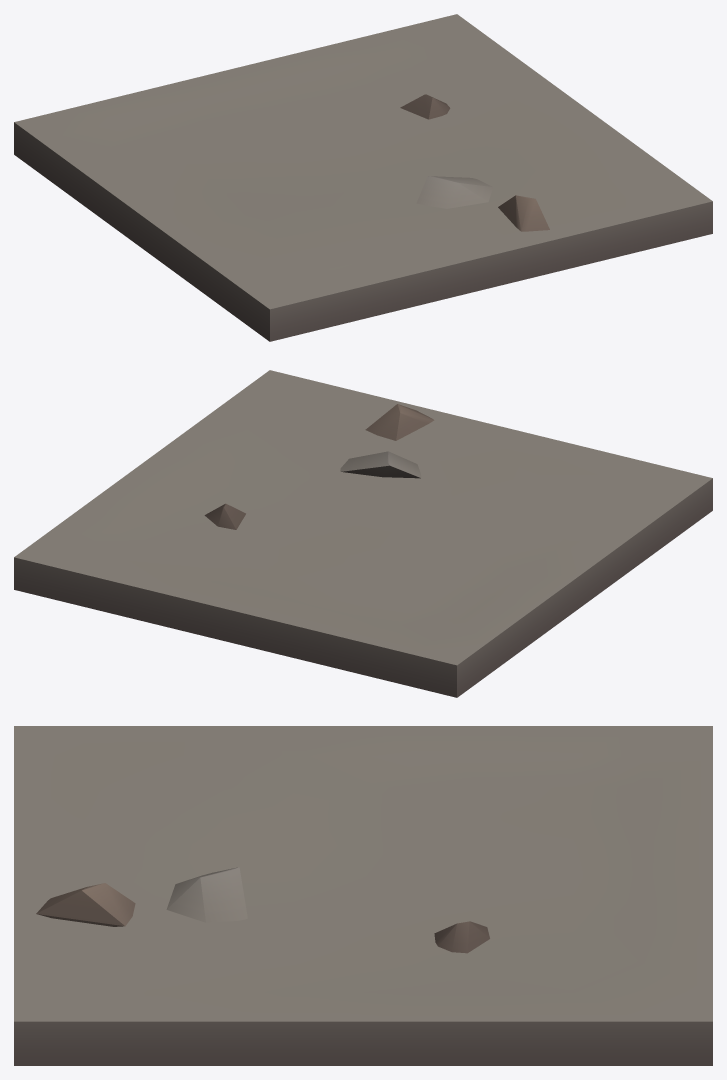
Rendered from floor_cave_small_D.glb.
3 views of the same model, one above another, from view 1: azimuth 30°, elevation 25°; view 2: azimuth 150°, elevation 25°; view 3: azimuth 270°, elevation 25° (orthographic). The views are drawn at different scales.
Visible parts, largest first — view 1: Item; view 2: Item; view 3: Item.
Boxes of the visible parts, bbox=[...] form: Item: bbox=[14, 14, 712, 341]; Item: bbox=[14, 370, 712, 697]; Item: bbox=[14, 726, 712, 1065].
Bounding box in the file's own units: 2 × 0.2328 × 2.
Materials: 1 (1 with a texture image).
